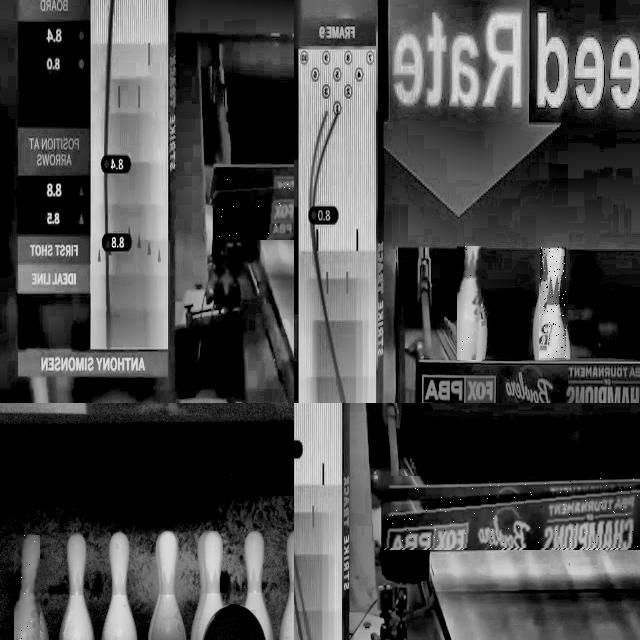bowling-ball: (203, 604, 266, 640)
bowling-pins: (148, 531, 186, 640), (101, 532, 137, 640), (59, 533, 94, 640), (245, 531, 273, 640), (197, 530, 223, 640), (540, 248, 565, 359), (457, 247, 481, 357), (16, 536, 39, 640)
sweep board: (385, 489, 640, 548), (416, 359, 640, 403)
